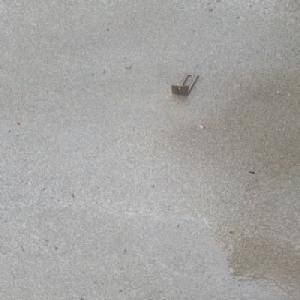MetalPart: (170, 72, 199, 95)
